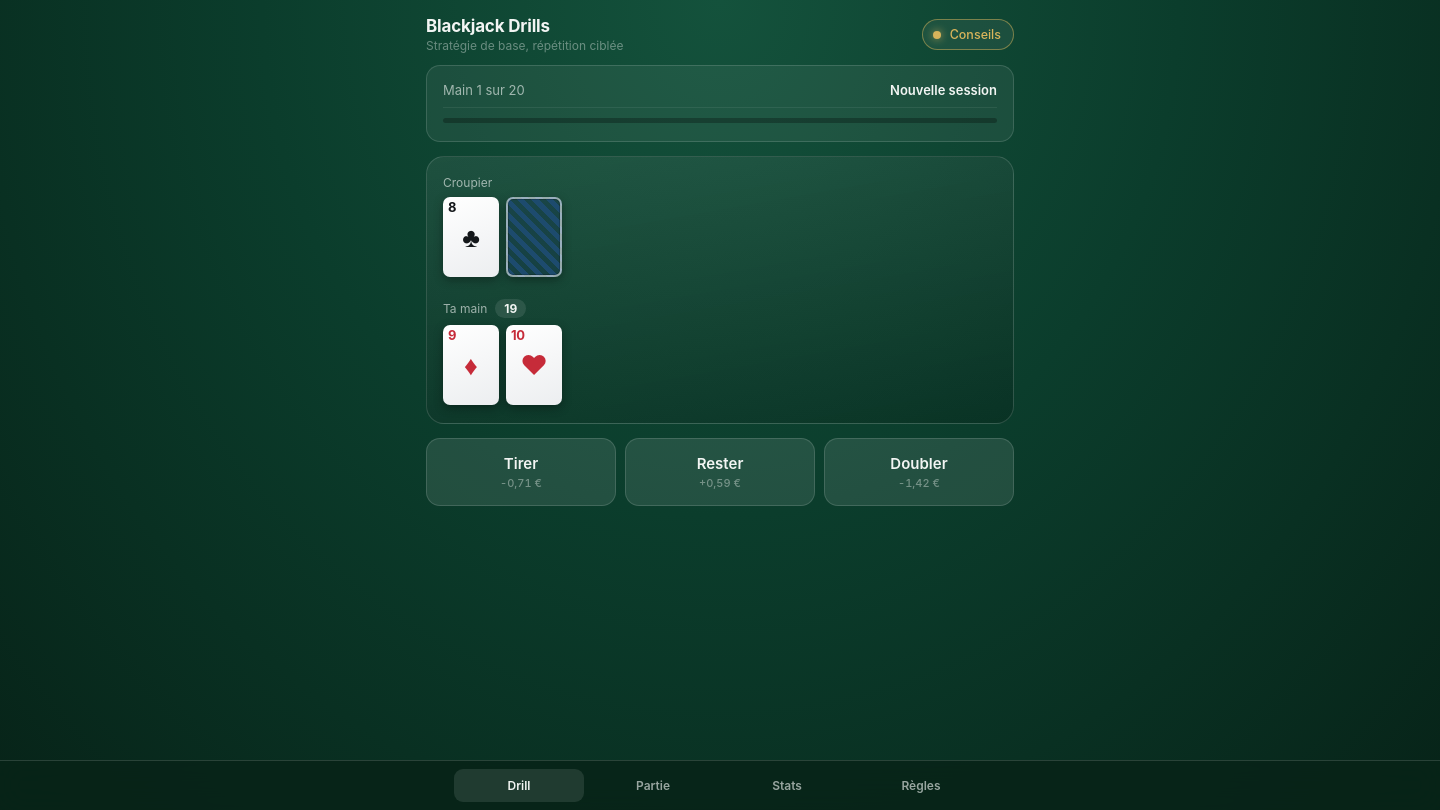
Test case: toggle des conseils › reporte l’explication au bilan quand l’aide est coupée
This screenshot has width=1440, height=810.
Click the button "Conseils": [968, 34] box [922,19,1014,50]
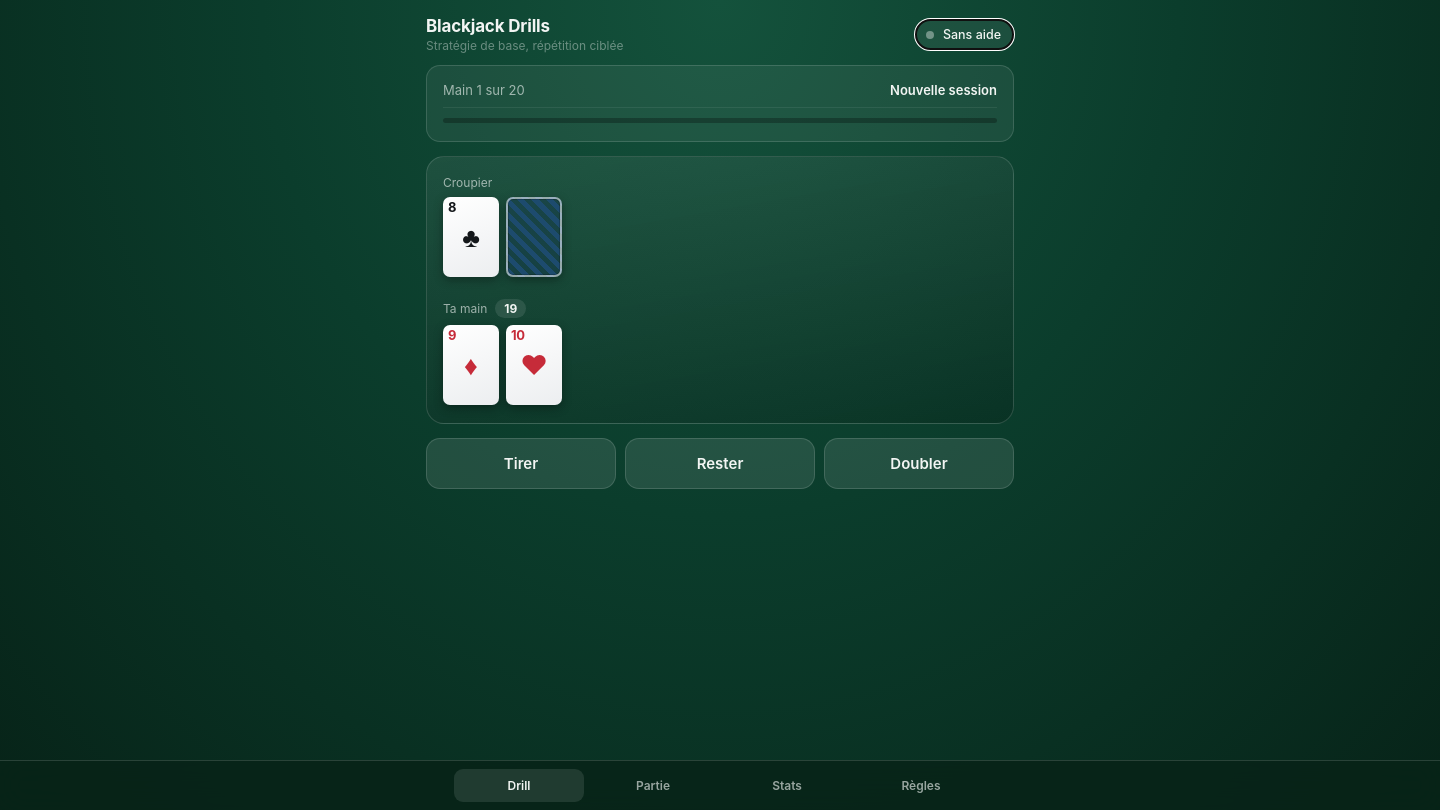
Click the button "Tirer": [521, 464] box [426,438,616,489]
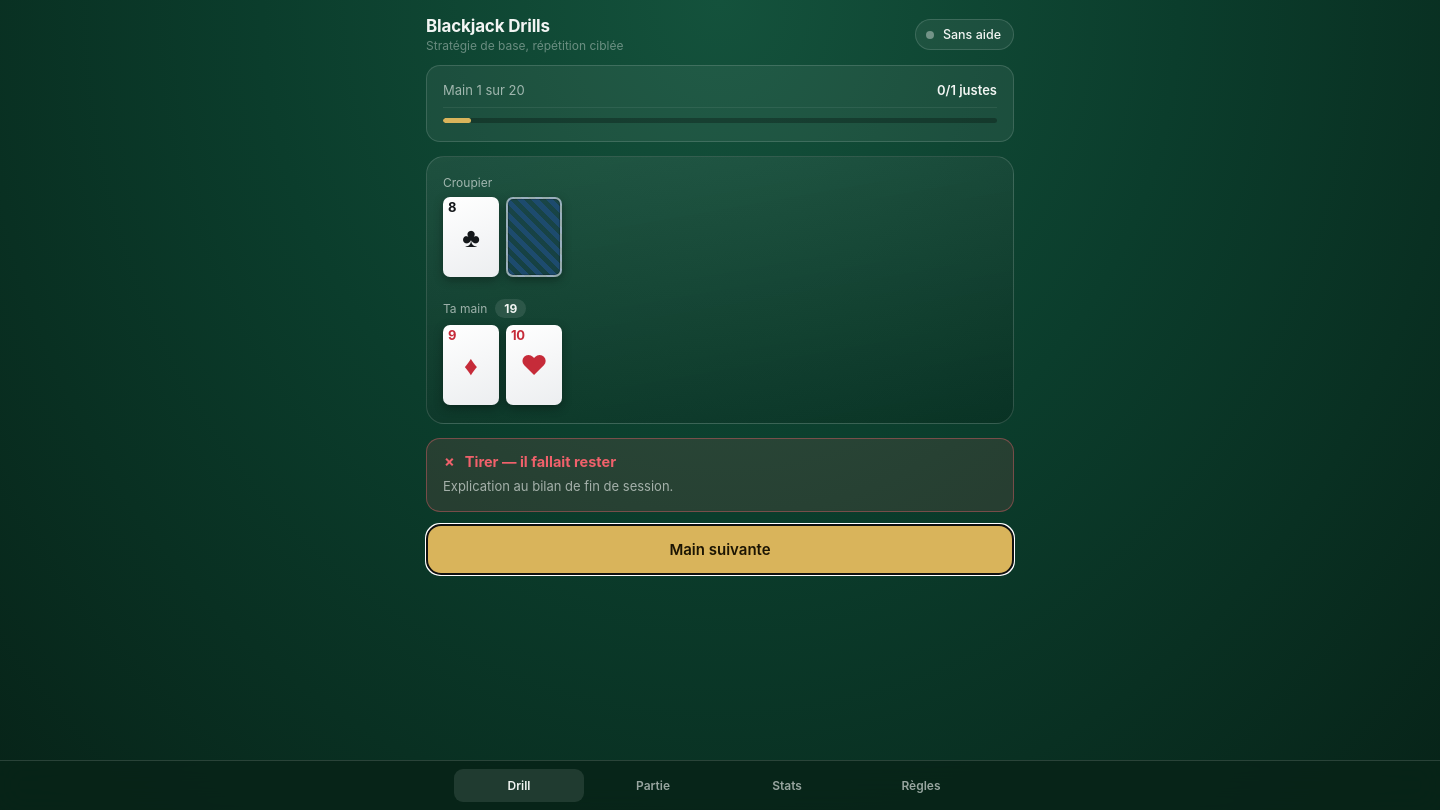
Expected: the text "Explication au bilan de fin de session." is shown, [443,478,673,494]
